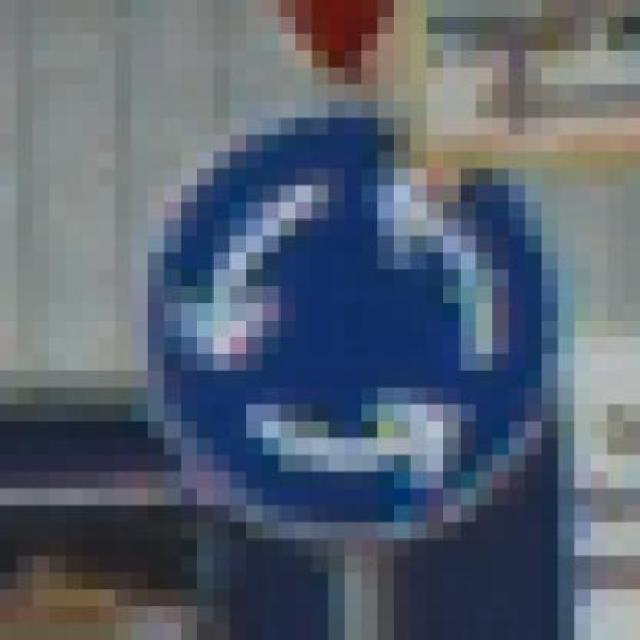Round-About: (115, 101, 574, 573)
